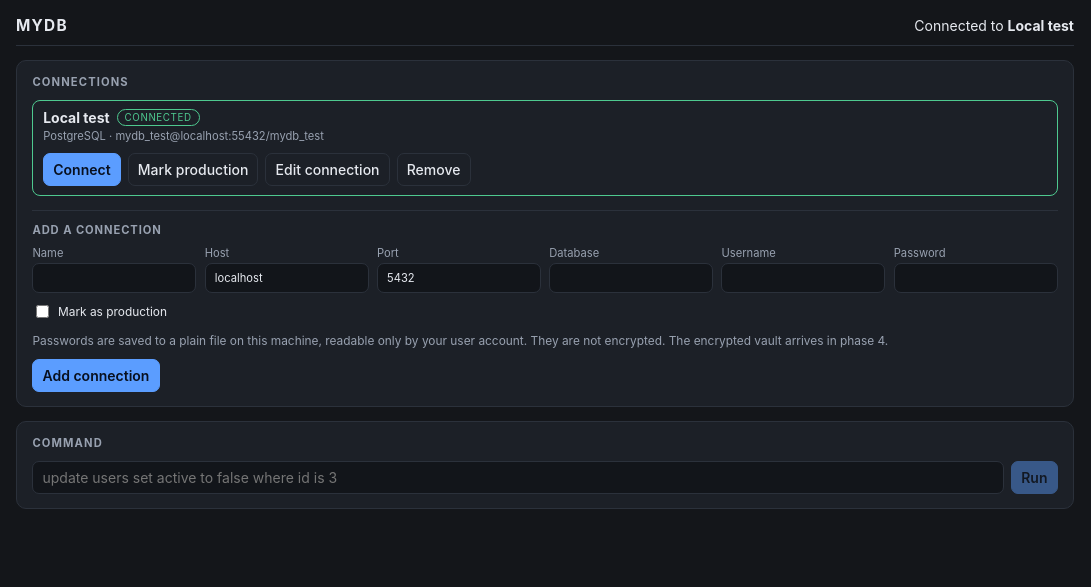
Test: the confirmation loop › shows a parse error instead of guessing
The image size is (1091, 587).
Expected: the text "Connected to Local test" is shown, top-left (914, 16), bottom-right (1074, 34)
Type "delete every invoice" into the field named "Command" at (518,477), box top-left (32, 461), bottom-right (1004, 494)
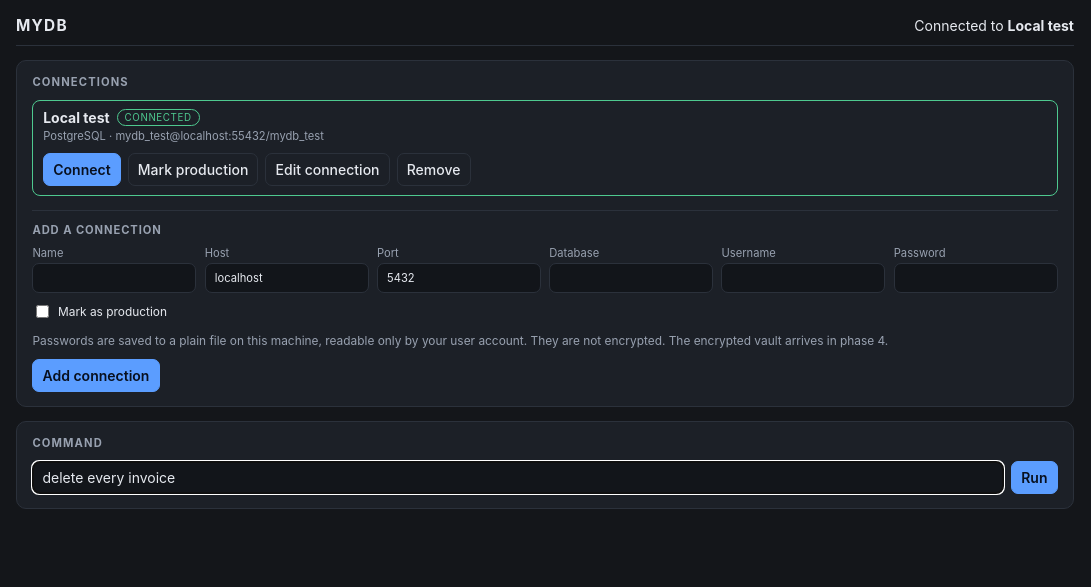
Click the button "Run" at (1034,477), box top-left (1011, 461), bottom-right (1058, 494)
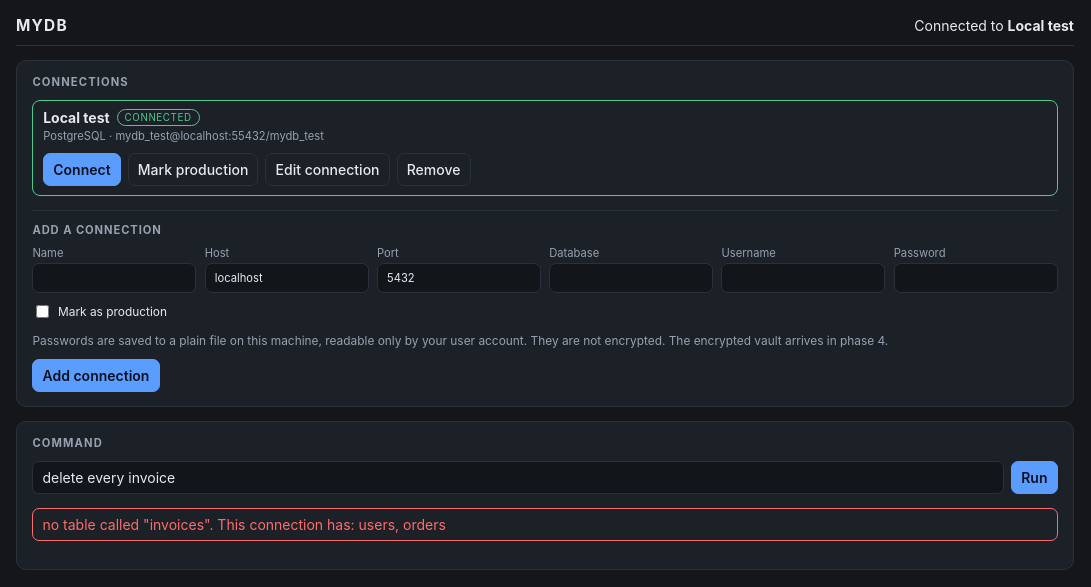
Expected: the message shows "no table called", top-left (42, 516), bottom-right (446, 533)
